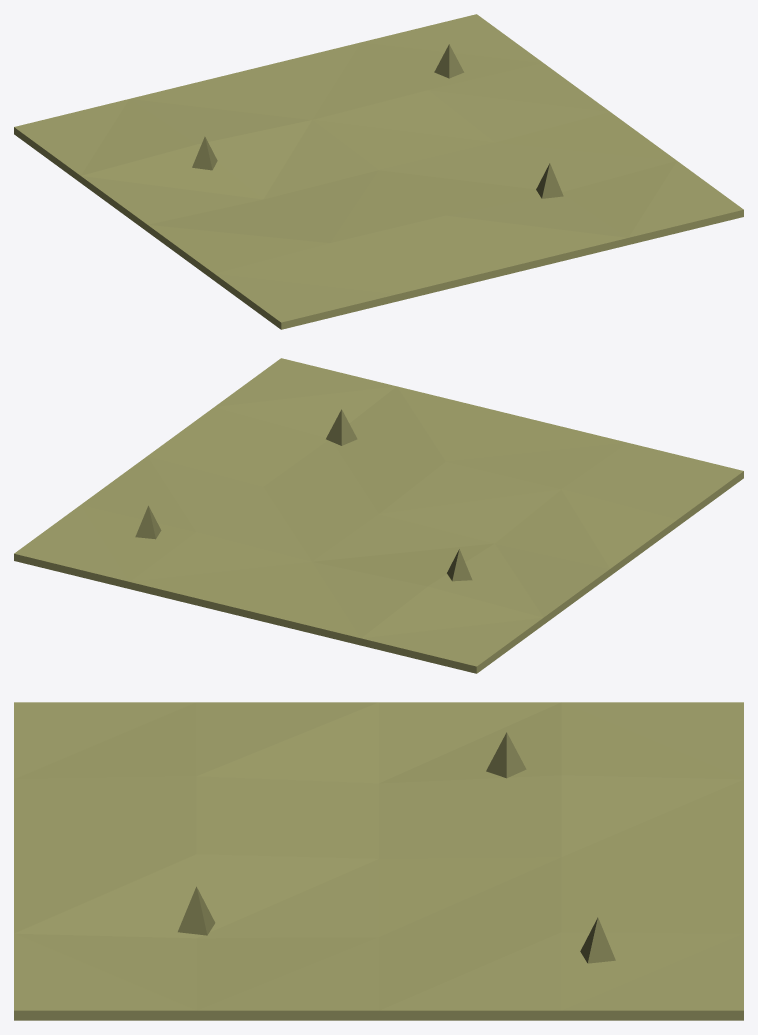
Rendered from lantai_persemaian_v001.glb.
3 renders of one model, top to bottom at view 1: azimuth 30°, elevation 25°; view 2: azimuth 150°, elevation 25°; view 3: azimuth 270°, elevation 25°, orthographic. The views are drawn at different scales.
Parts seen in each view (by area): view 1: lantai_persemaian; view 2: lantai_persemaian; view 3: lantai_persemaian.
Boxes of the visible parts, x1=… form: lantai_persemaian: x1=14, y1=14, x2=743, y2=329; lantai_persemaian: x1=14, y1=358, x2=743, y2=673; lantai_persemaian: x1=14, y1=702, x2=743, y2=1020.
Bounding box in the file's own units: 4 × 0.3 × 4.
